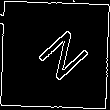N_SW: (23, 23, 87, 87)
